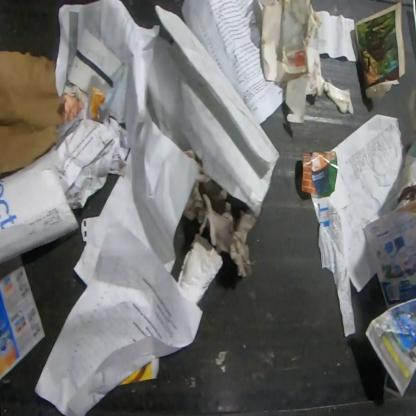cardboard: (256, 0, 355, 124), (0, 51, 67, 175)
